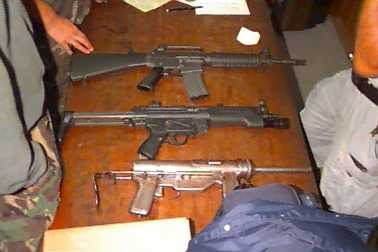rifle: (66, 45, 314, 93), (92, 160, 314, 212), (57, 101, 304, 146)
